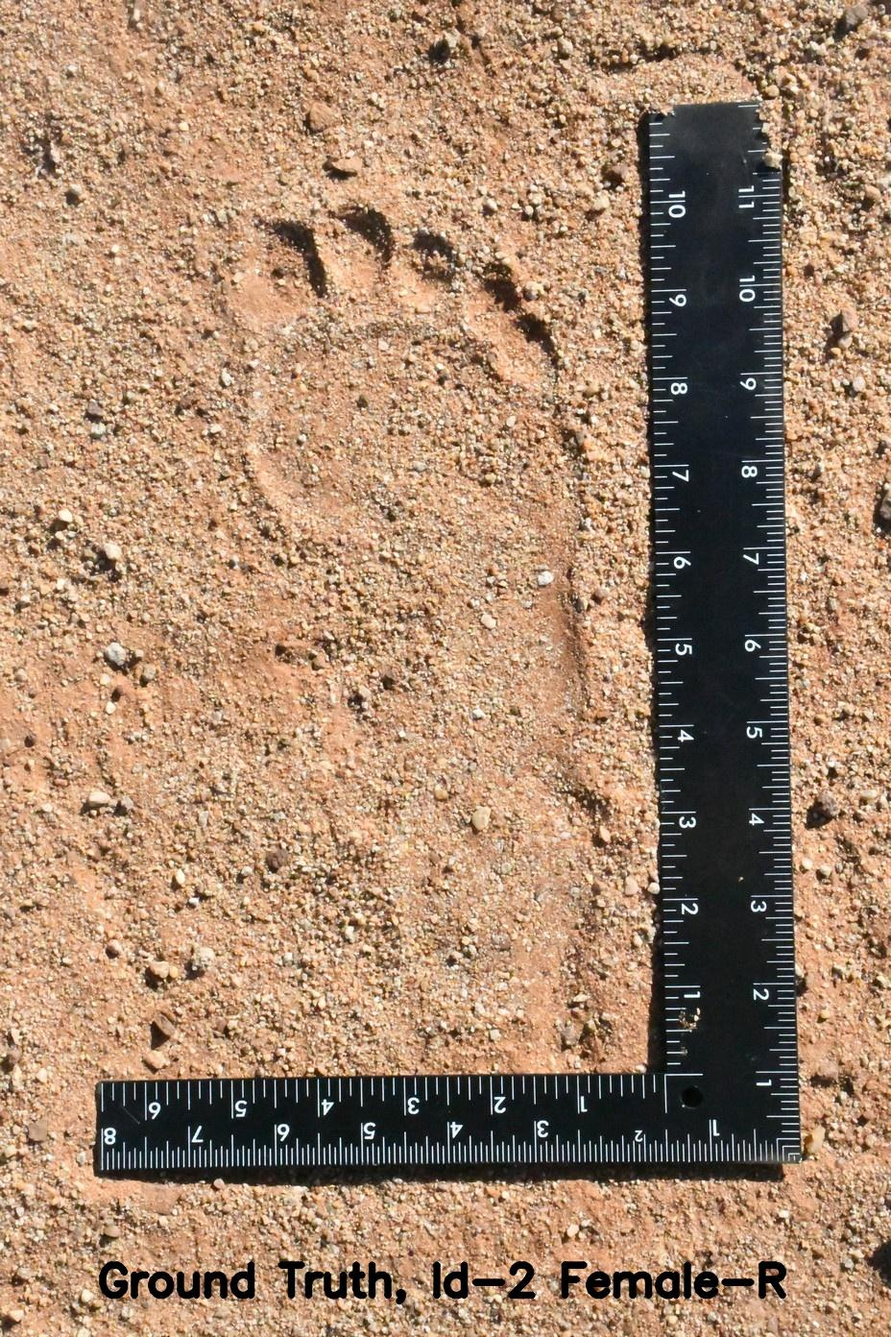human_foot_print: (205, 161, 628, 1050)
